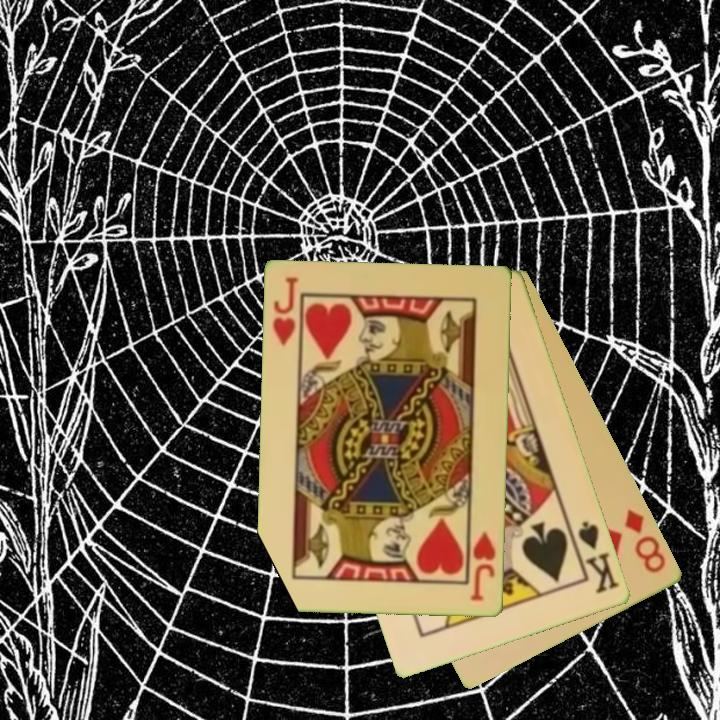8d: (621, 505, 669, 577)
Jh: (465, 522, 499, 605), (269, 273, 302, 349)
Ks: (568, 518, 623, 597)
